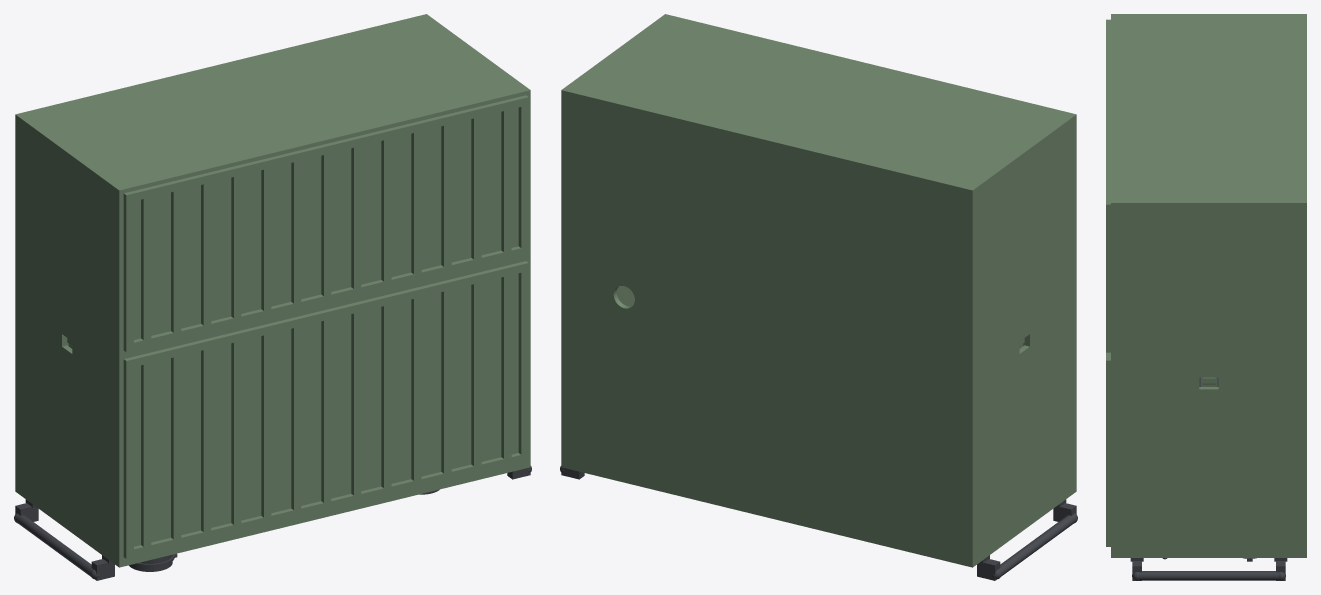
File: SDRMP_assembled.glb
3 renders of one model, left to right at view 1: azimuth 30°, elevation 25°; view 2: azimuth 150°, elevation 25°; view 3: azimuth 270°, elevation 25°, orthographic. The views are drawn at different scales.
Parts seen in each view (by area): view 1: battery_box, case_front, handle_left; view 2: battery_box, case_front, handle_left; view 3: battery_box, case_front, handle_right.
Boxes of the visible parts, x1,y1,x2,y2 form: battery_box: (15,14,530,359); case_front: (15,260,530,567); handle_left: (14,499,114,580); battery_box: (561,14,1076,359); case_front: (561,260,1076,567); handle_left: (977,499,1077,580); battery_box: (1106,14,1306,386); case_front: (1106,352,1306,557); handle_right: (1130,558,1287,580).
Bounding box in the file's own units: 293 × 259 × 123.
